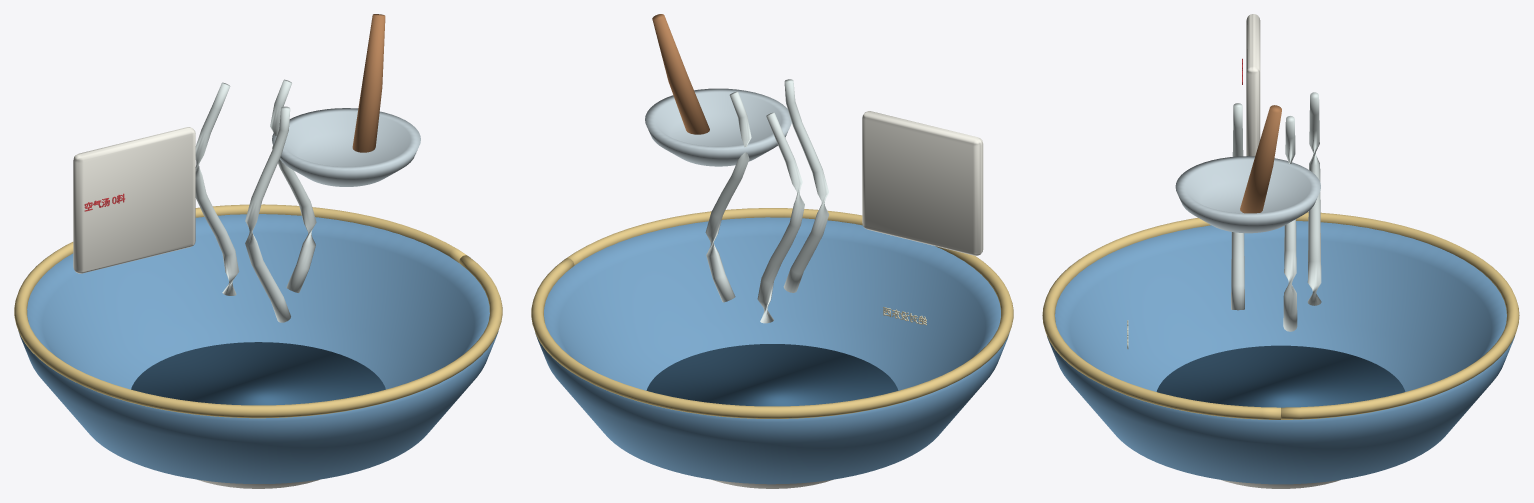
The model's file is K05_Invisible_Air_Soup_Bowl.glb.
The picture shows the model from 3 angles, left to right: view 1: azimuth 30°, elevation 25°; view 2: azimuth 150°, elevation 25°; view 3: azimuth 270°, elevation 25°; orthographic projection. The views are drawn at different scales.
Parts seen in each view (by area): view 1: K05 actual empty double-shell deep food ceramic bowl, K05 restaurant hand-held EMPTY ingredients menu, K05 visibly EMPTY inside bowl deep bottom bowl interior, K05 hand rolled genuine brass lip, K05 genuine empty steel ladle 3D concave bowl, K05_AIR_CURRENT_ACTOR | Sculpted mirage ribbons not generic , K05 actual wooden ladle handle; view 2: K05 actual empty double-shell deep food ceramic bowl, K05 restaurant hand-held EMPTY ingredients menu, K05 visibly EMPTY inside bowl deep bottom bowl interior, K05 hand rolled genuine brass lip, K05_AIR_CURRENT_ACTOR | Sculpted mirage ribbons not generic , K05 genuine empty steel ladle 3D concave bowl, K05 actual wooden ladle handle; view 3: K05 actual empty double-shell deep food ceramic bowl, K05 hand rolled genuine brass lip, K05 visibly EMPTY inside bowl deep bottom bowl interior, K05 genuine empty steel ladle 3D concave bowl, K05_AIR_CURRENT_ACTOR | Sculpted mirage ribbons not generic , K05 actual wooden ladle handle, K05 restaurant hand-held EMPTY ingredients menu.
Part boxes in pixels (x1,y1,x2,y2): K05 actual empty double-shell deep food ceramic bowl: [18, 214, 498, 483]; K05 restaurant hand-held EMPTY ingredients menu: [73, 127, 195, 273]; K05 visibly EMPTY inside bowl deep bottom bowl interior: [131, 342, 385, 405]; K05 hand rolled genuine brass lip: [14, 204, 502, 418]; K05 genuine empty steel ladle 3D concave bowl: [272, 108, 420, 186]; K05_AIR_CURRENT_ACTOR | Sculpted mirage ribbons not generic : [195, 79, 316, 322]; K05 actual wooden ladle handle: [352, 14, 385, 152]; K05 actual empty double-shell deep food ceramic bowl: [535, 217, 1009, 484]; K05 restaurant hand-held EMPTY ingredients menu: [862, 111, 983, 255]; K05 visibly EMPTY inside bowl deep bottom bowl interior: [646, 344, 898, 406]; K05 hand rolled genuine brass lip: [531, 208, 1013, 418]; K05_AIR_CURRENT_ACTOR | Sculpted mirage ribbons not generic : [705, 79, 828, 323]; K05 genuine empty steel ladle 3D concave bowl: [645, 88, 791, 166]; K05 actual wooden ladle handle: [652, 14, 709, 134]; K05 actual empty double-shell deep food ceramic bowl: [1047, 221, 1514, 484]; K05 hand rolled genuine brass lip: [1042, 212, 1519, 419]; K05 visibly EMPTY inside bowl deep bottom bowl interior: [1156, 345, 1405, 407]; K05 genuine empty steel ladle 3D concave bowl: [1175, 156, 1320, 233]; K05_AIR_CURRENT_ACTOR | Sculpted mirage ribbons not generic : [1231, 92, 1321, 331]; K05 actual wooden ladle handle: [1240, 105, 1281, 213]; K05 restaurant hand-held EMPTY ingredients menu: [1246, 14, 1260, 156].
Bounding box in the file's own units: 1.9 × 1.75 × 1.9.
